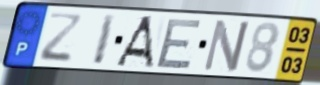8: (244, 21, 282, 76)
A: (113, 14, 155, 70)
E: (153, 18, 205, 70)
I: (90, 12, 118, 67)
N: (200, 17, 252, 73)
Z: (37, 11, 85, 65)
